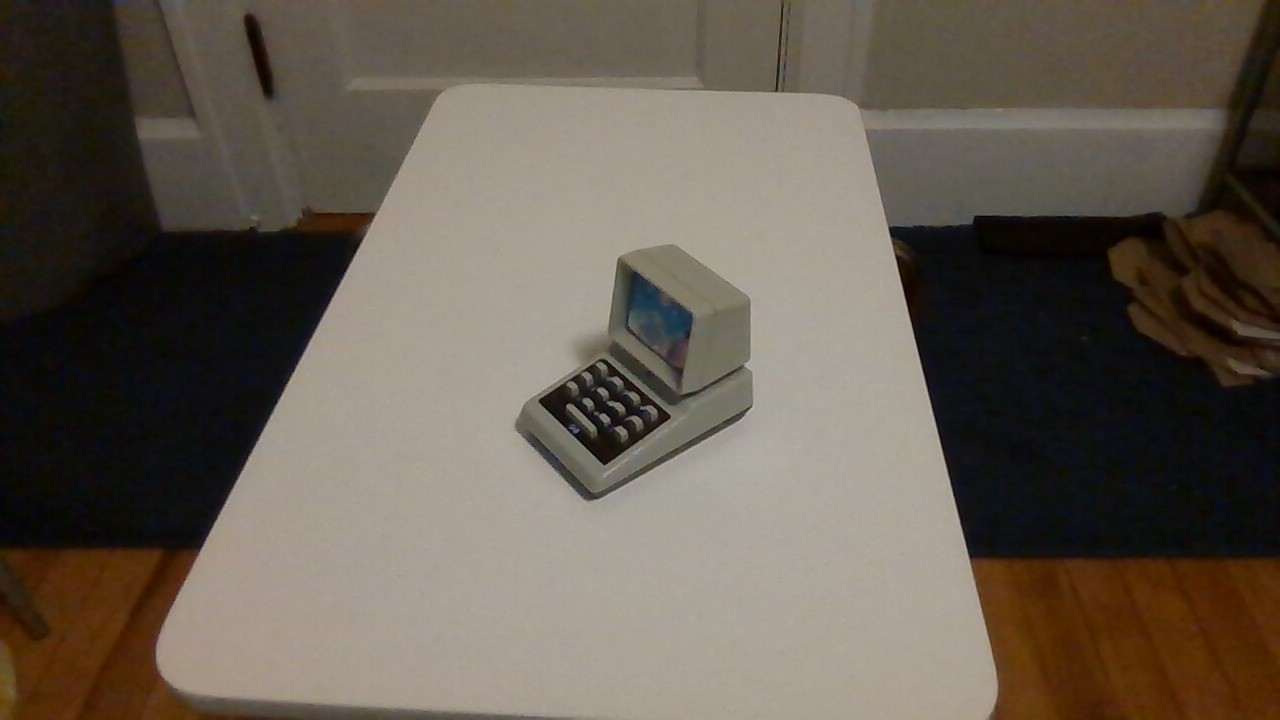Toy: (505, 223, 767, 519)
